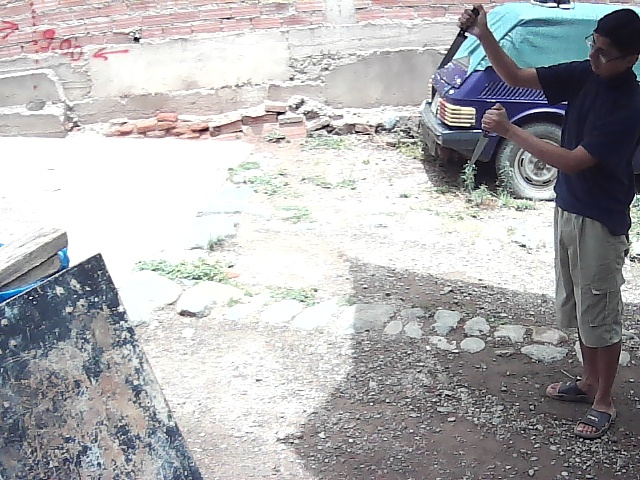cuchillo: (435, 22, 473, 75)
